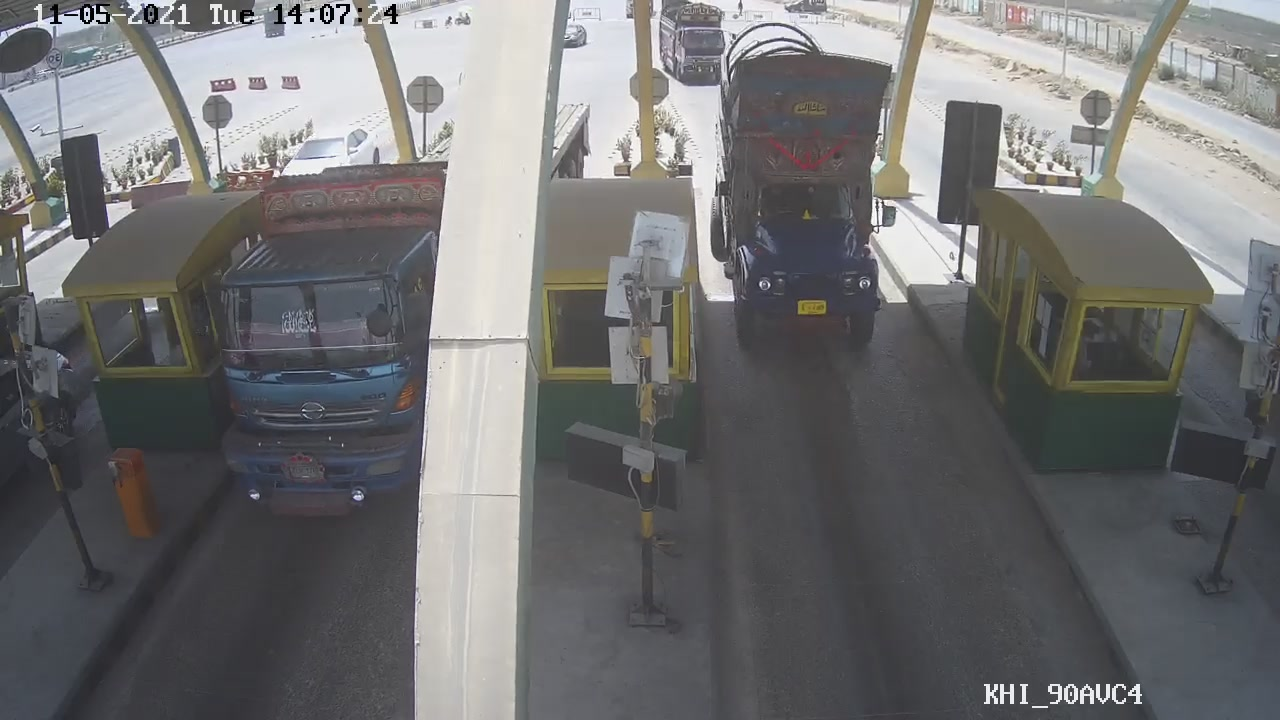F5: (705, 37, 912, 357)
